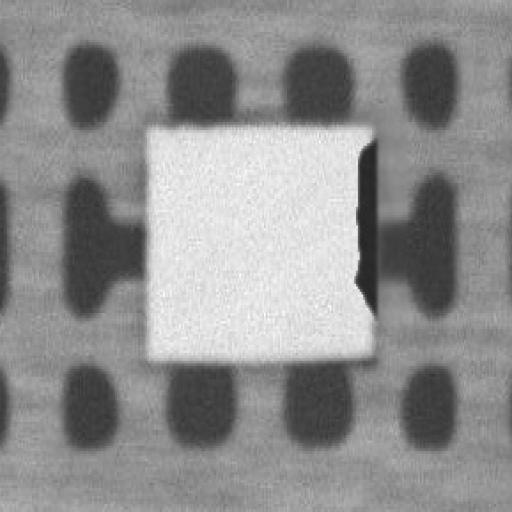DIE_BROKEN: (349, 127, 376, 316)
